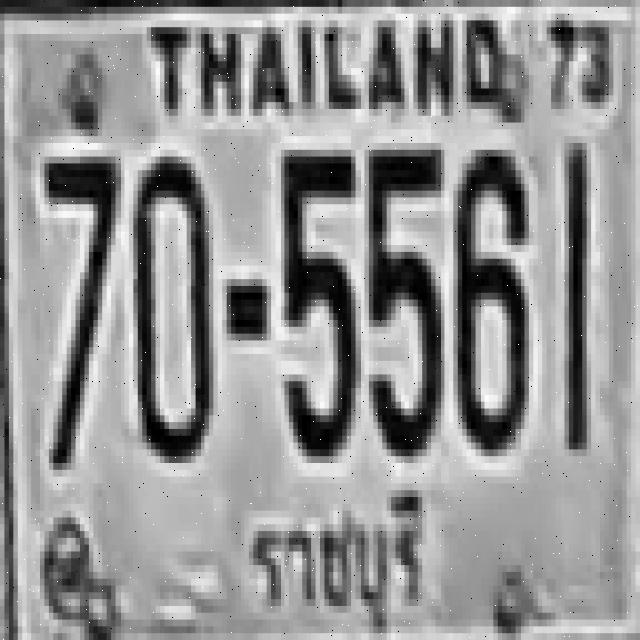0: (129, 150, 209, 456)
1: (562, 143, 584, 443)
5: (364, 143, 440, 449), (278, 143, 354, 449)
6: (454, 143, 524, 449)
7: (40, 150, 116, 456), (40, 150, 116, 395), (40, 150, 116, 354)
Ratchaburi: (234, 486, 444, 630)
